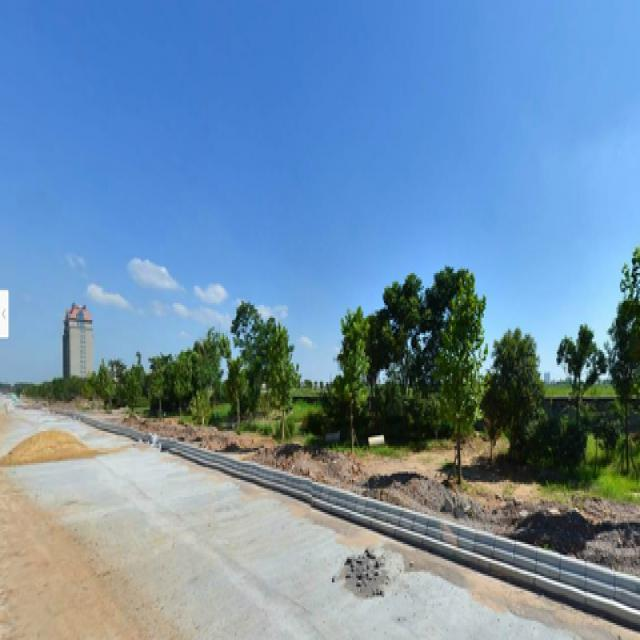meta: (443, 288, 485, 482), (334, 320, 370, 467)
